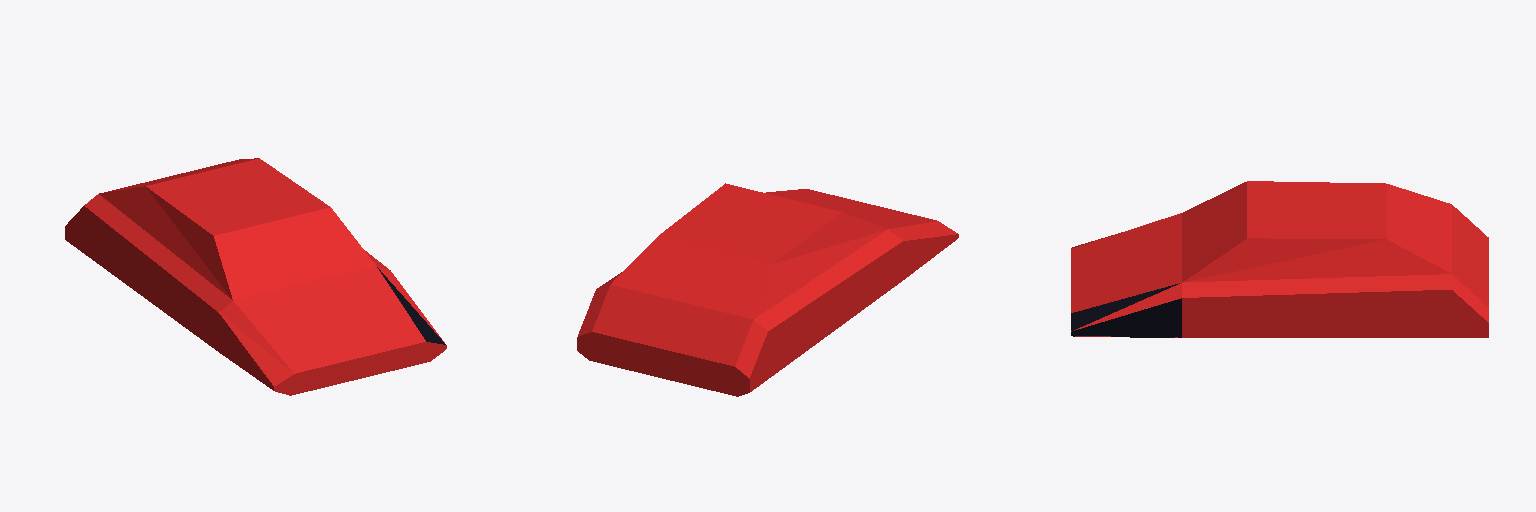
The model's file is vehicle_sport_car_simple.obj.
3 renders of one model, left to right at view 1: azimuth 30°, elevation 25°; view 2: azimuth 150°, elevation 25°; view 3: azimuth 270°, elevation 25°, orthographic.
Size of the model in its own units: 2.14 by 1.1 by 4.5.